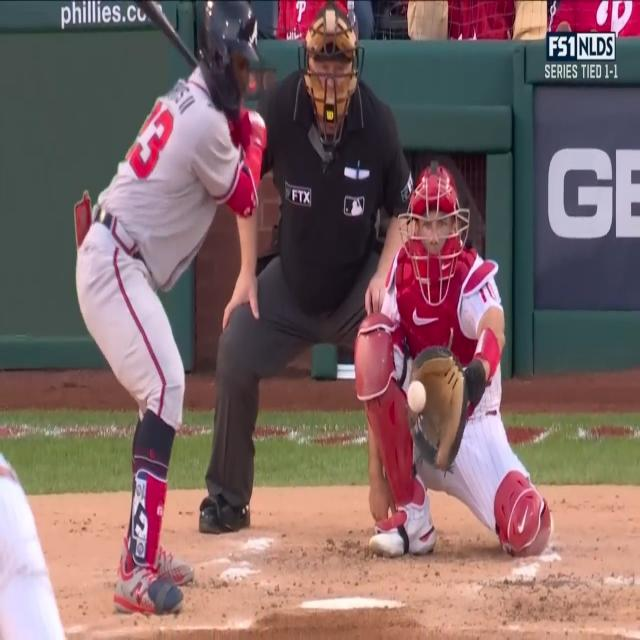baseball: (407, 378, 427, 415)
